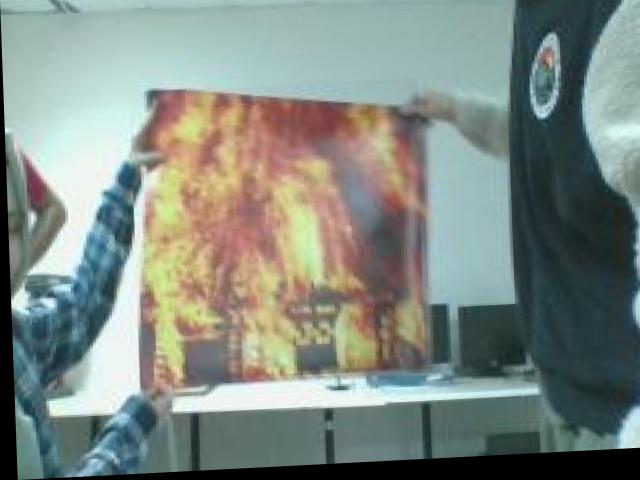fire-poster: (126, 77, 438, 397)
